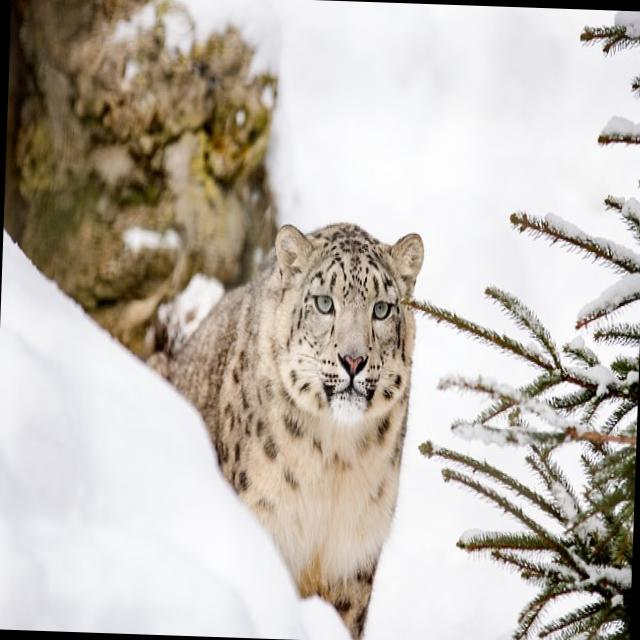cat: (136, 212, 426, 640)
